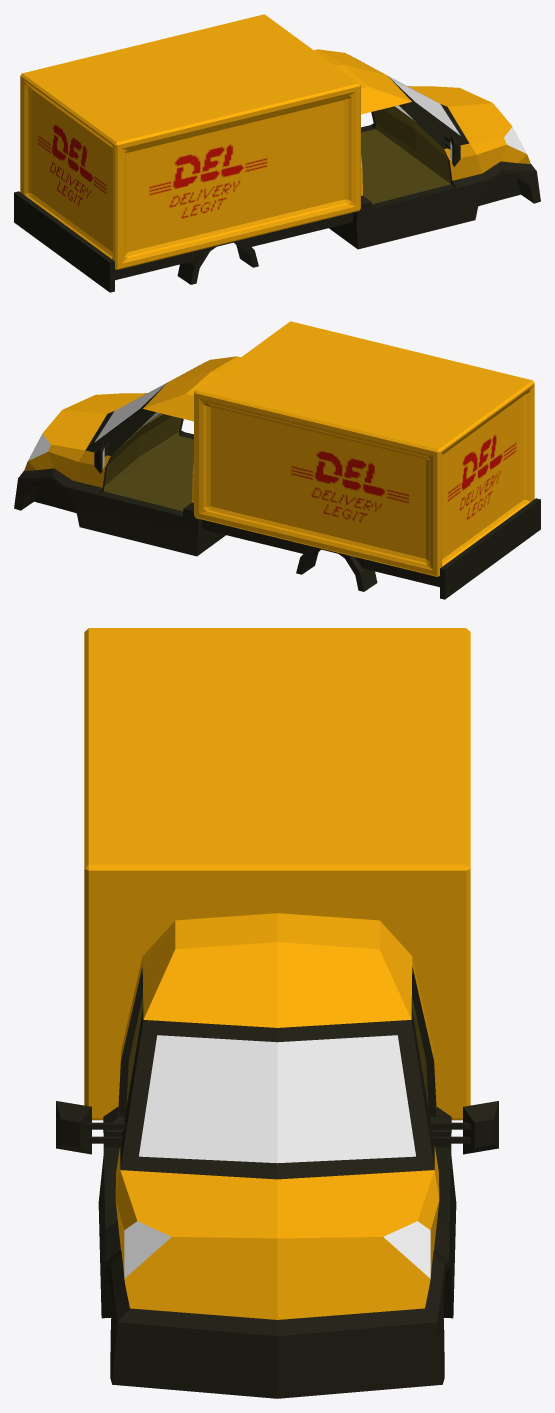
The model's file is DeliveryTruck.dae.
3 renders of one model, top to bottom at view 1: azimuth 30°, elevation 25°; view 2: azimuth 150°, elevation 25°; view 3: azimuth 270°, elevation 25°, orthographic. The views are drawn at different scales.
Visible parts, largest first — view 1: Cube.001, Cube; view 2: Cube.001, Cube; view 3: Cube, Cube.001.
Boxes of the visible parts, box(x1,y1,x2,y2) form: Cube.001: box(20, 14, 360, 270); Cube: box(14, 49, 540, 292); Cube.001: box(194, 321, 534, 577); Cube: box(14, 356, 540, 599); Cube: box(56, 913, 498, 1398); Cube.001: box(84, 628, 470, 1120).
Size of the model in its own units: 6.06 by 2.57 by 2.16.
5 materials, 1 textured.
